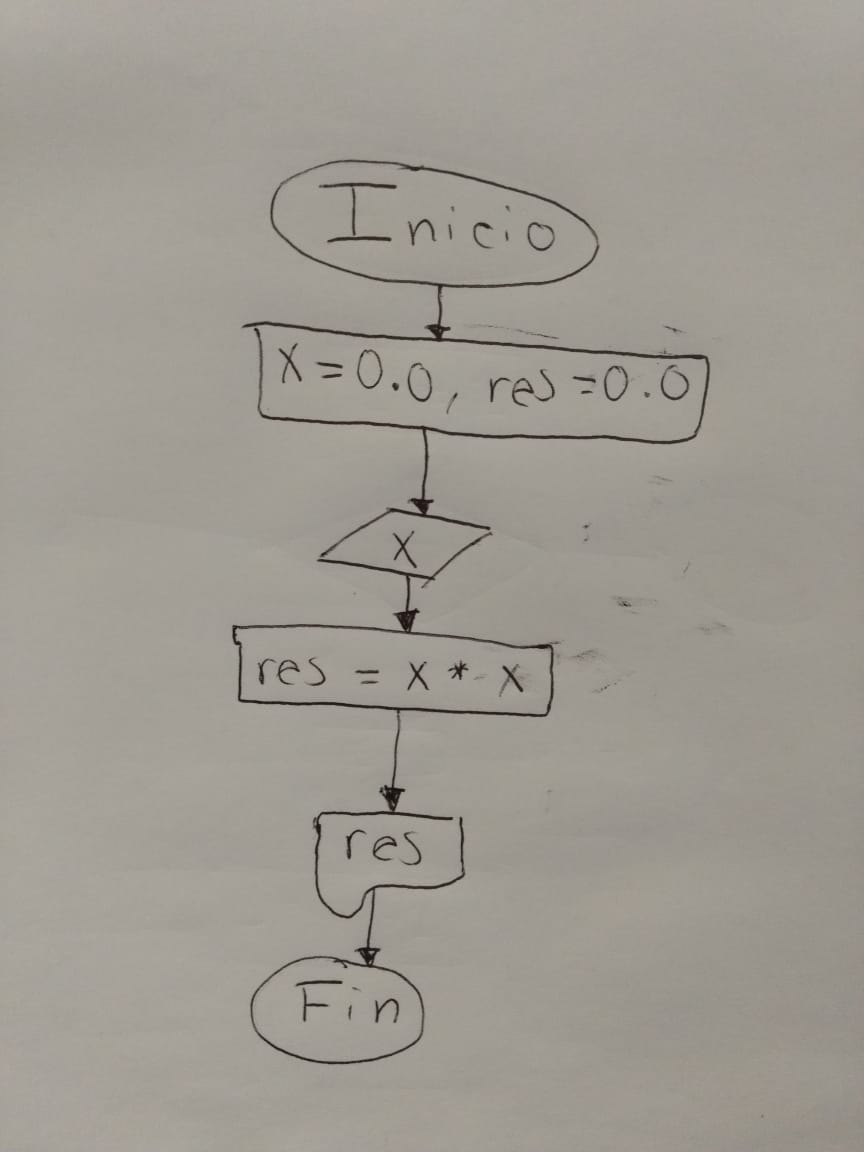arrow_line_down: (376, 703, 413, 818), (407, 423, 440, 520), (389, 572, 426, 638), (356, 889, 386, 969), (420, 281, 456, 341)
print: (310, 805, 473, 921)
process: (247, 314, 717, 453), (228, 620, 565, 727)
scan: (314, 505, 501, 587)
start_end: (262, 154, 607, 298), (247, 951, 431, 1072)
